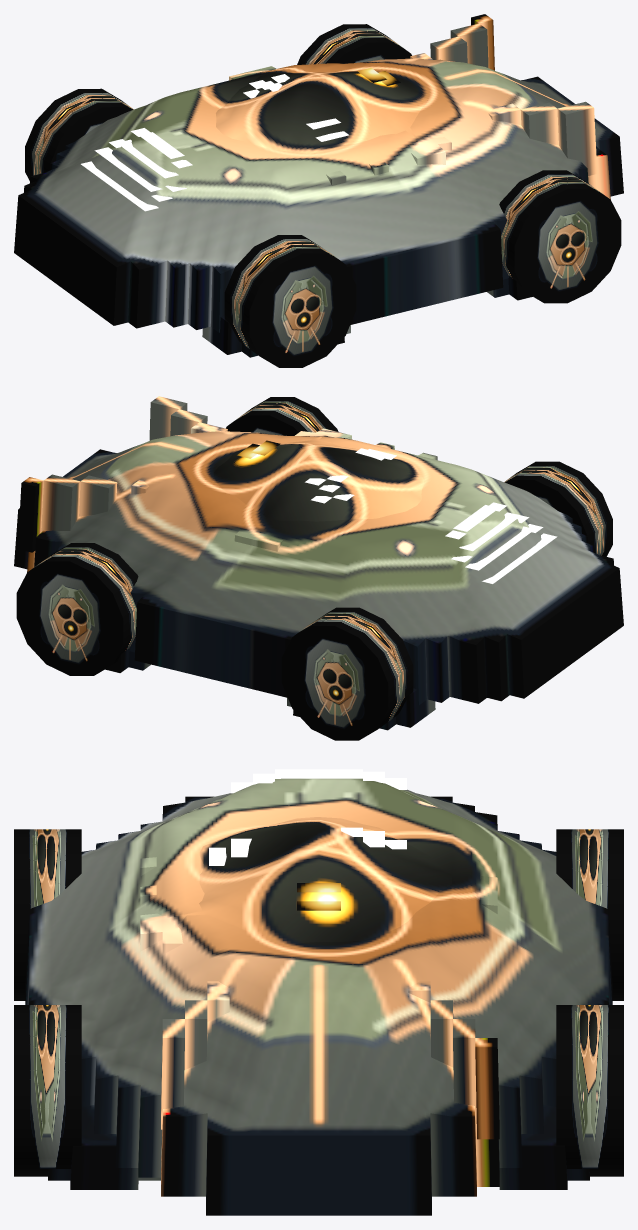
The picture shows the model from 3 angles, top to bottom: view 1: azimuth 30°, elevation 25°; view 2: azimuth 150°, elevation 25°; view 3: azimuth 270°, elevation 25°; orthographic projection. The views are drawn at different scales.
Visible parts, largest first — view 1: chassis-heightfield, idle-nest-pod-right, wheel-right-0, wheel-right-1, idle-nest-pod-left, wheel-left-0, semantic-team-surfaces, wheel-left-1, underbody-layered-relief; view 2: chassis-heightfield, idle-nest-pod-left, wheel-left-0, wheel-left-1, idle-nest-pod-right, wheel-right-0, semantic-team-surfaces, wheel-right-1, underbody-layered-relief; view 3: chassis-heightfield, idle-nest-pod-right, idle-nest-pod-left, wheel-left-1, wheel-right-1, underbody-layered-relief, wheel-left-0, wheel-right-0, semantic-team-surfaces, authored-emissive-surfaces.
Boxes of the visible parts, x1=… form: chassis-heightfield: x1=14, y1=58, x2=623, y2=332; idle-nest-pod-right: x1=222, y1=76, x2=597, y2=185; wheel-right-0: x1=224, y1=235, x2=356, y2=367; wheel-right-1: x1=499, y1=170, x2=621, y2=303; idle-nest-pod-left: x1=216, y1=14, x2=494, y2=132; wheel-left-0: x1=25, y1=88, x2=133, y2=180; semantic-team-surfaces: x1=81, y1=74, x2=348, y2=211; wheel-left-1: x1=297, y1=24, x2=411, y2=64; underbody-layered-relief: x1=202, y1=276, x2=532, y2=357; chassis-heightfield: x1=14, y1=431, x2=623, y2=705; idle-nest-pod-left: x1=18, y1=449, x2=415, y2=552; wheel-left-0: x1=281, y1=607, x2=413, y2=740; wheel-left-1: x1=16, y1=543, x2=138, y2=675; idle-nest-pod-right: x1=149, y1=396, x2=437, y2=505; wheel-right-0: x1=504, y1=461, x2=612, y2=556; semantic-team-surfaces: x1=305, y1=448, x2=557, y2=583; wheel-right-1: x1=226, y1=397, x2=338, y2=435; underbody-layered-relief: x1=105, y1=648, x2=435, y2=730; chassis-heightfield: x1=25, y1=778, x2=612, y2=1215; idle-nest-pod-right: x1=140, y1=817, x2=318, y2=1129; idle-nest-pod-left: x1=319, y1=817, x2=499, y2=1139; wheel-left-1: x1=556, y1=1005, x2=623, y2=1176; wheel-right-1: x1=14, y1=1005, x2=81, y2=1176; underbody-layered-relief: x1=48, y1=1105, x2=589, y2=1189; wheel-left-0: x1=556, y1=829, x2=623, y2=1000; wheel-right-0: x1=14, y1=829, x2=81, y2=1000; semantic-team-surfaces: x1=209, y1=769, x2=406, y2=865; authored-emissive-surfaces: x1=297, y1=883, x2=340, y2=910.
Size of the model in its own units: 0.9 by 0.2895 by 0.675.
5 materials, 4 textured.
